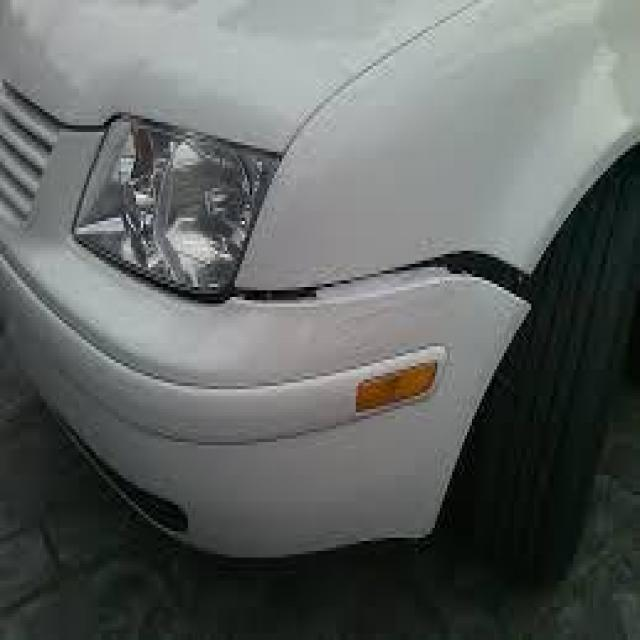damaged: (234, 247, 534, 320)
